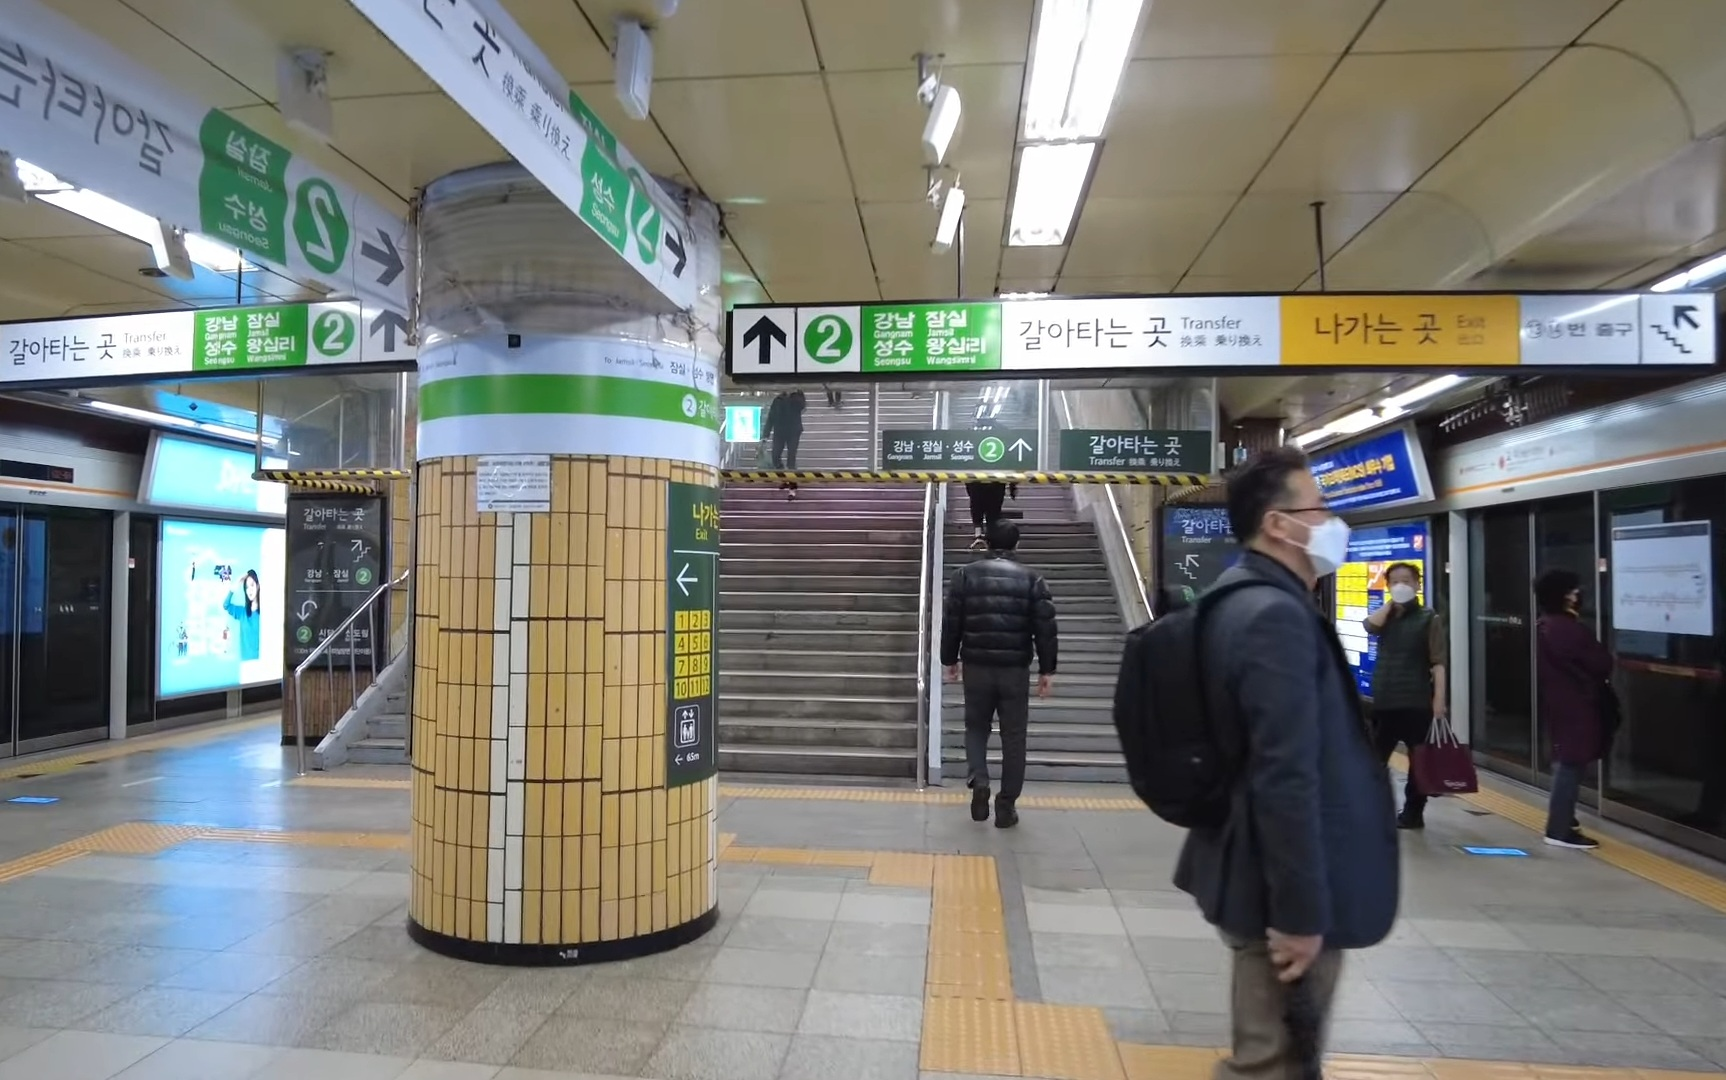signBoard: (716, 271, 1726, 371)
